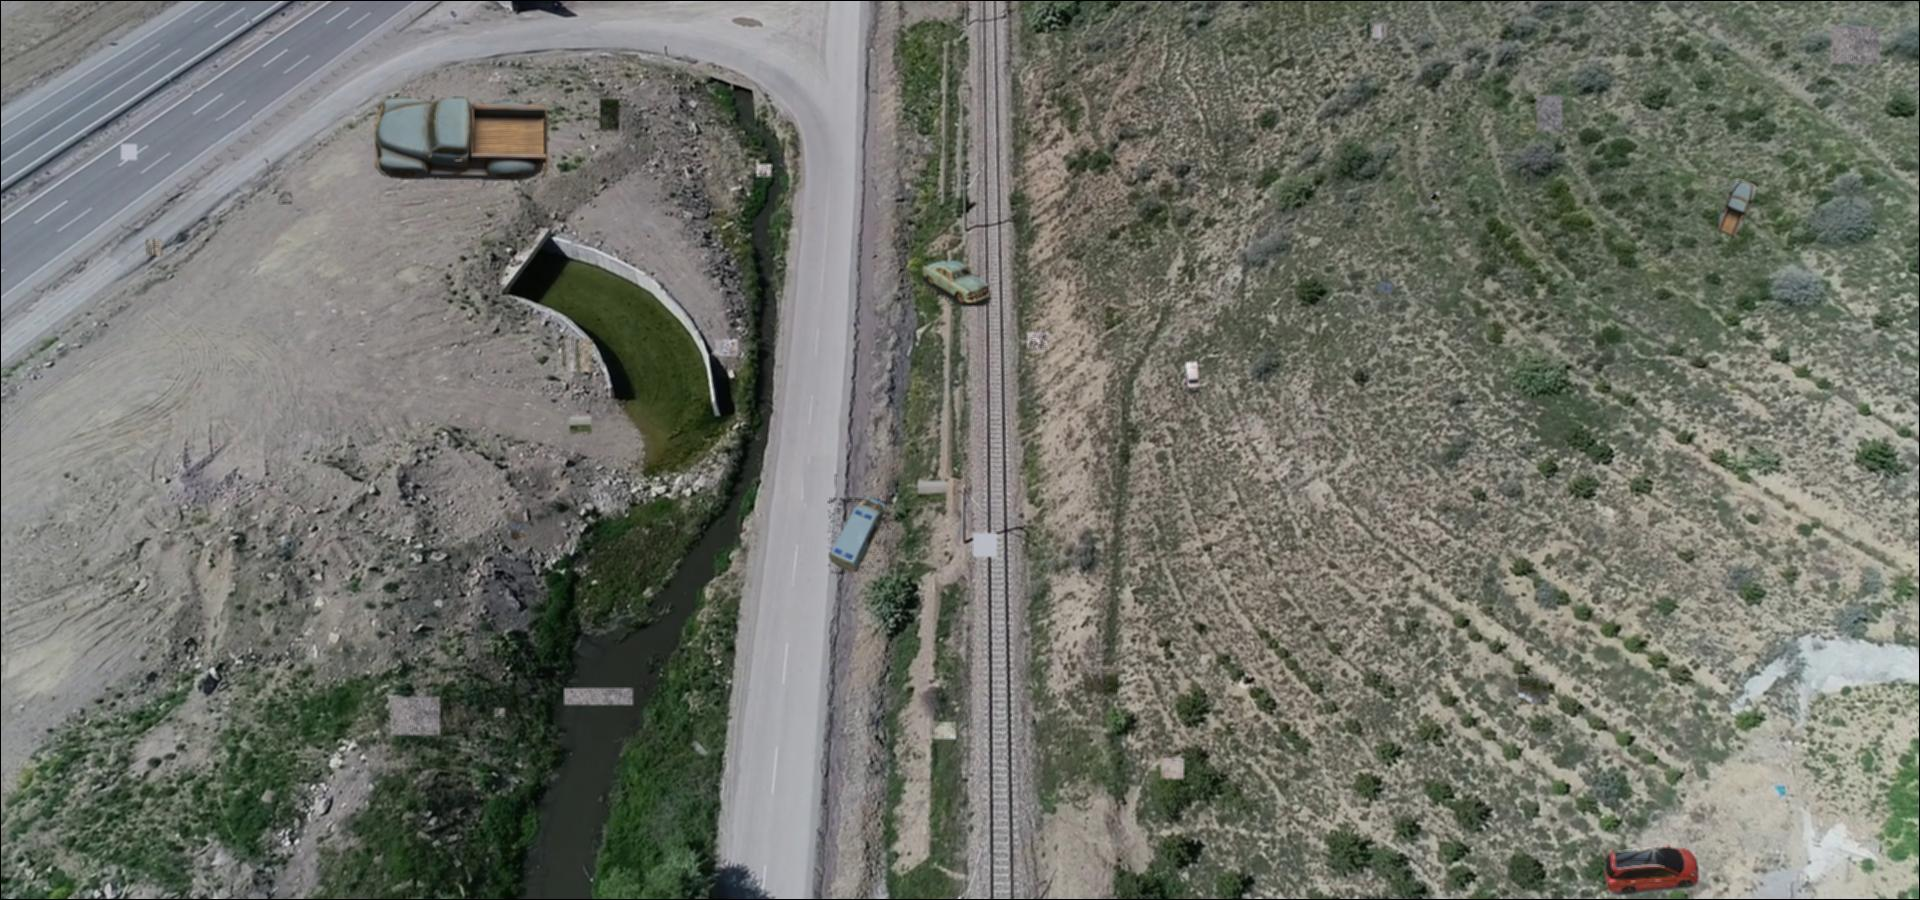arac: (375, 91, 550, 180), (1603, 842, 1700, 898), (828, 498, 890, 574), (920, 260, 996, 306), (1716, 179, 1760, 238), (1183, 360, 1201, 394)
